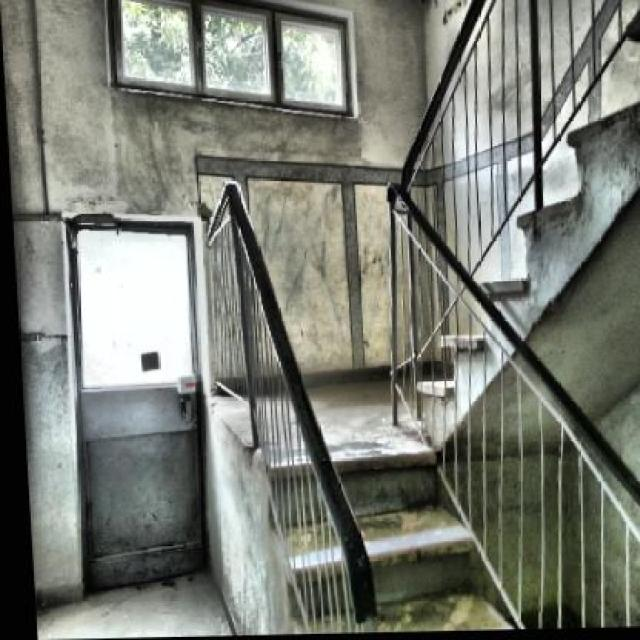stair: (265, 422, 517, 636)
